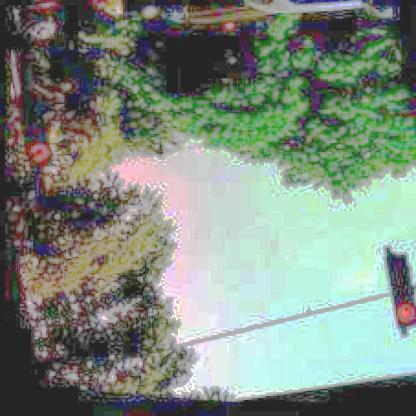Traffic Light -Red-: (13, 95, 57, 176), (379, 250, 416, 332)
